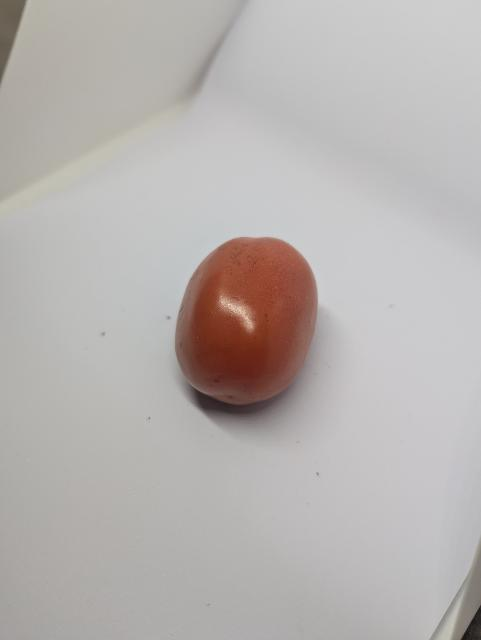red: (172, 234, 322, 409)
